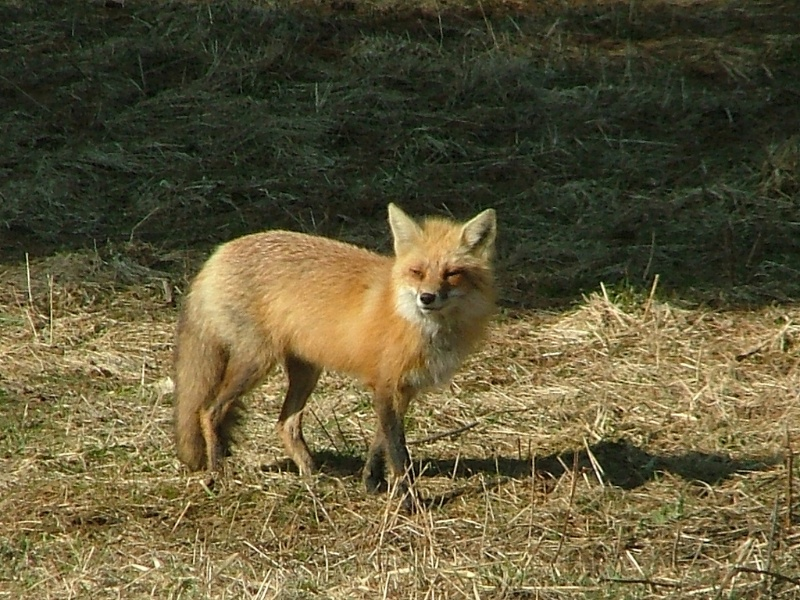fox: (168, 204, 509, 495)
